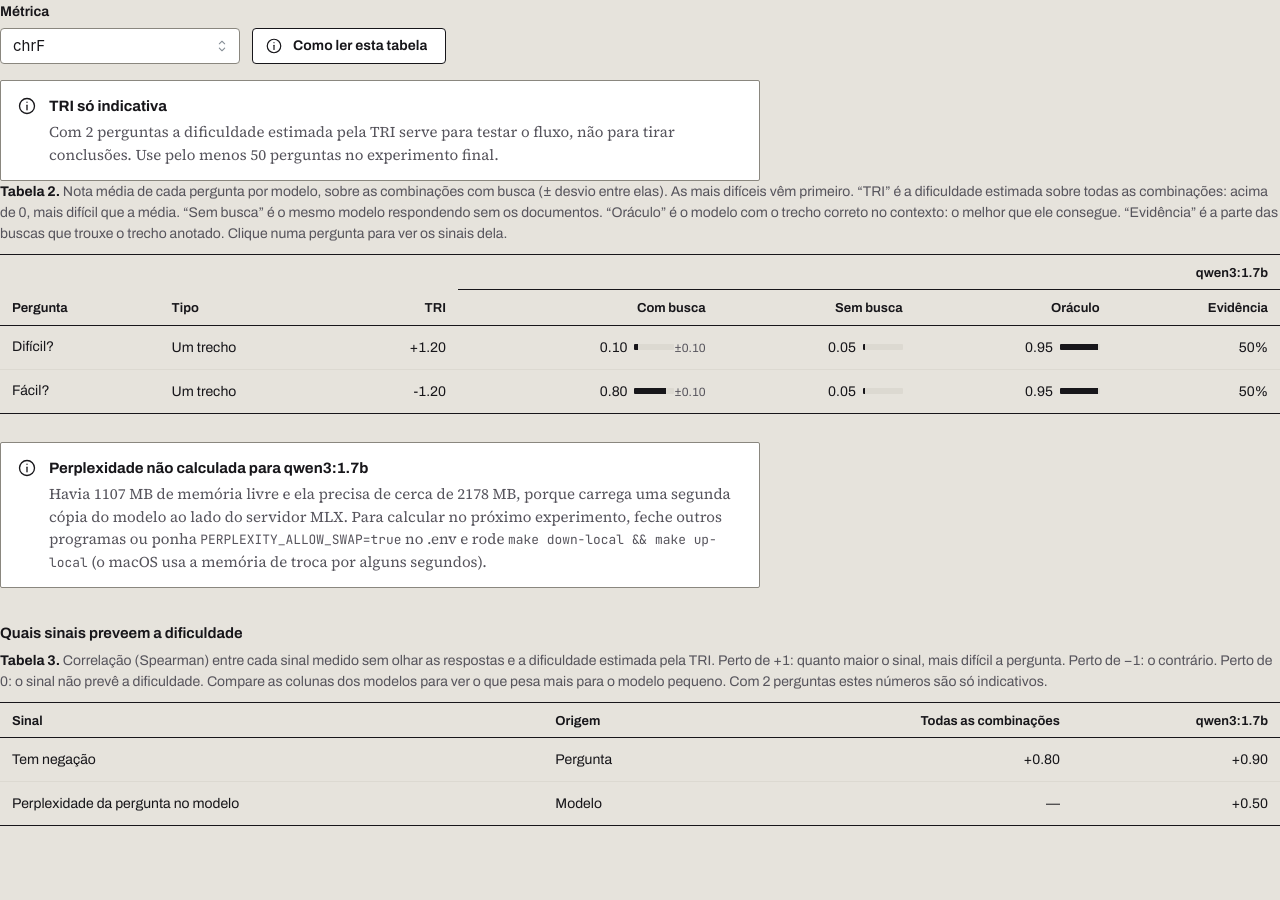
Test case: DifficultyPanel › opens the question's signals
Click the button "Difícil?" at (33, 346), box [12,337,54,356]
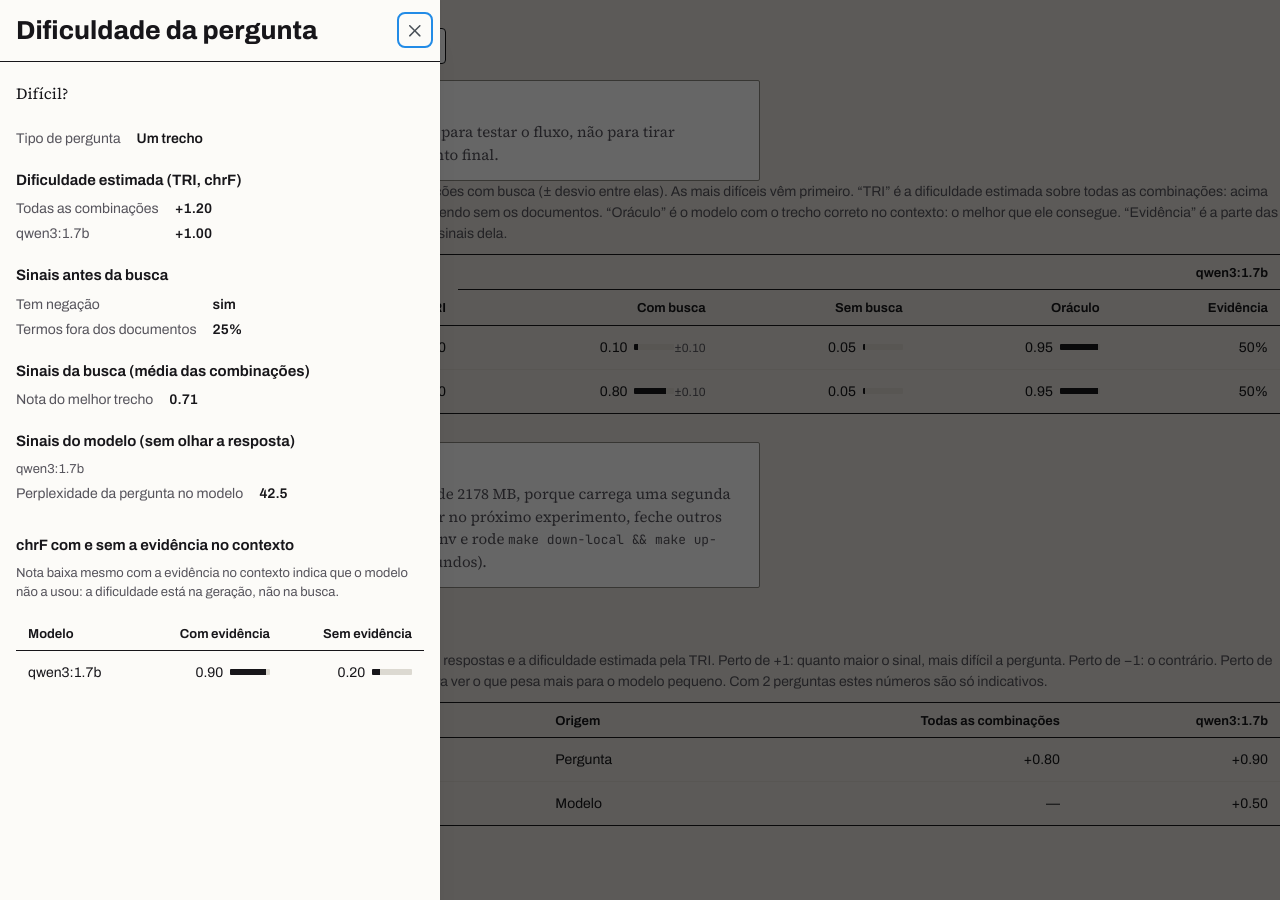
Now the text "Tem negação" is shown, box [16,297,100,312]
Now the text "sim" is shown, box [213,297,236,312]
Now the text "25%" is shown, box [213,322,242,337]
